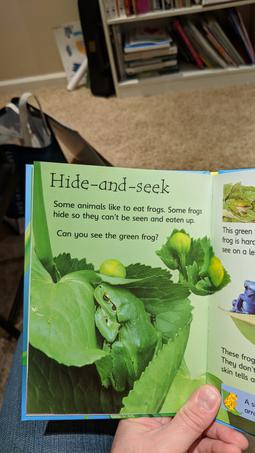text block: (45, 195, 206, 226), (45, 164, 182, 199), (51, 224, 161, 244), (214, 221, 255, 256), (219, 343, 255, 381), (231, 391, 255, 412)
